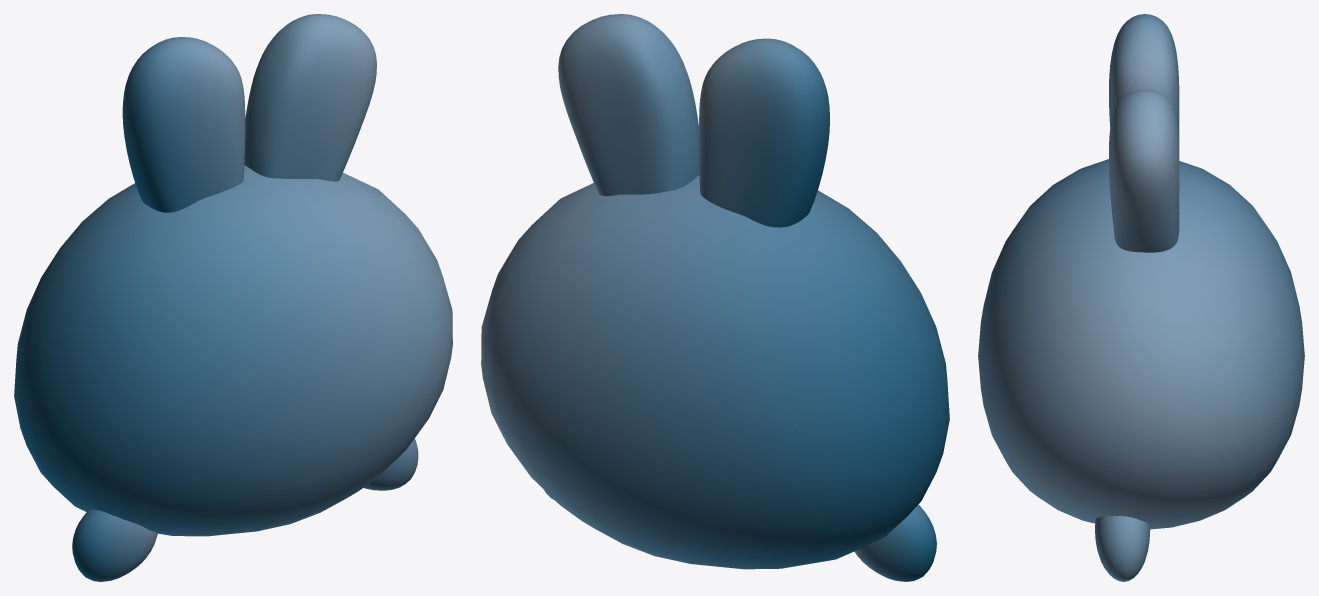
Rendered from Cabeza_Personaje.glb.
3 renders of one model, left to right at view 1: azimuth 30°, elevation 25°; view 2: azimuth 150°, elevation 25°; view 3: azimuth 270°, elevation 25°, orthographic. The views are drawn at different scales.
Visible parts, largest first — view 1: Cabeza; view 2: Cabeza; view 3: Cabeza.
Boxes of the visible parts, bbox=[...] form: Cabeza: bbox=[14, 14, 452, 581]; Cabeza: bbox=[481, 14, 949, 581]; Cabeza: bbox=[978, 14, 1304, 581].
Size of the model in its own units: 0.9417 by 1.12 by 0.7026.
1 material, 1 textured.
